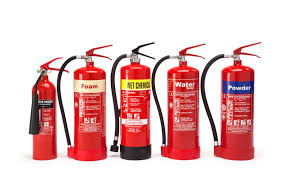fire: (200, 42, 263, 160), (57, 45, 114, 161), (152, 43, 206, 160), (110, 42, 152, 160), (29, 57, 69, 160)
